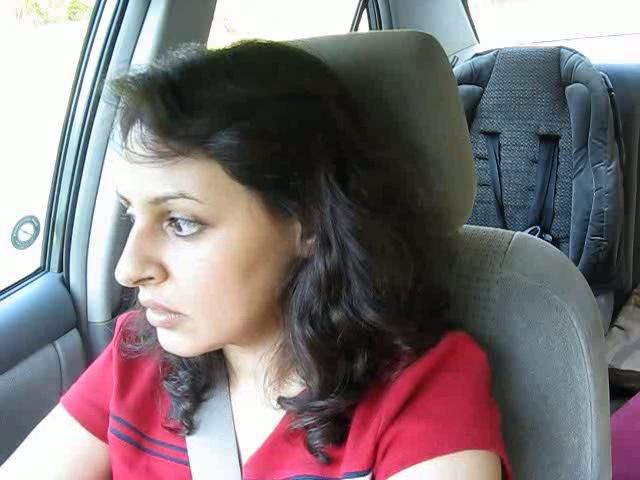no_yawn: (126, 289, 204, 341)
open_eyeL: (112, 194, 142, 234)
open_eyeR: (145, 200, 223, 249)
